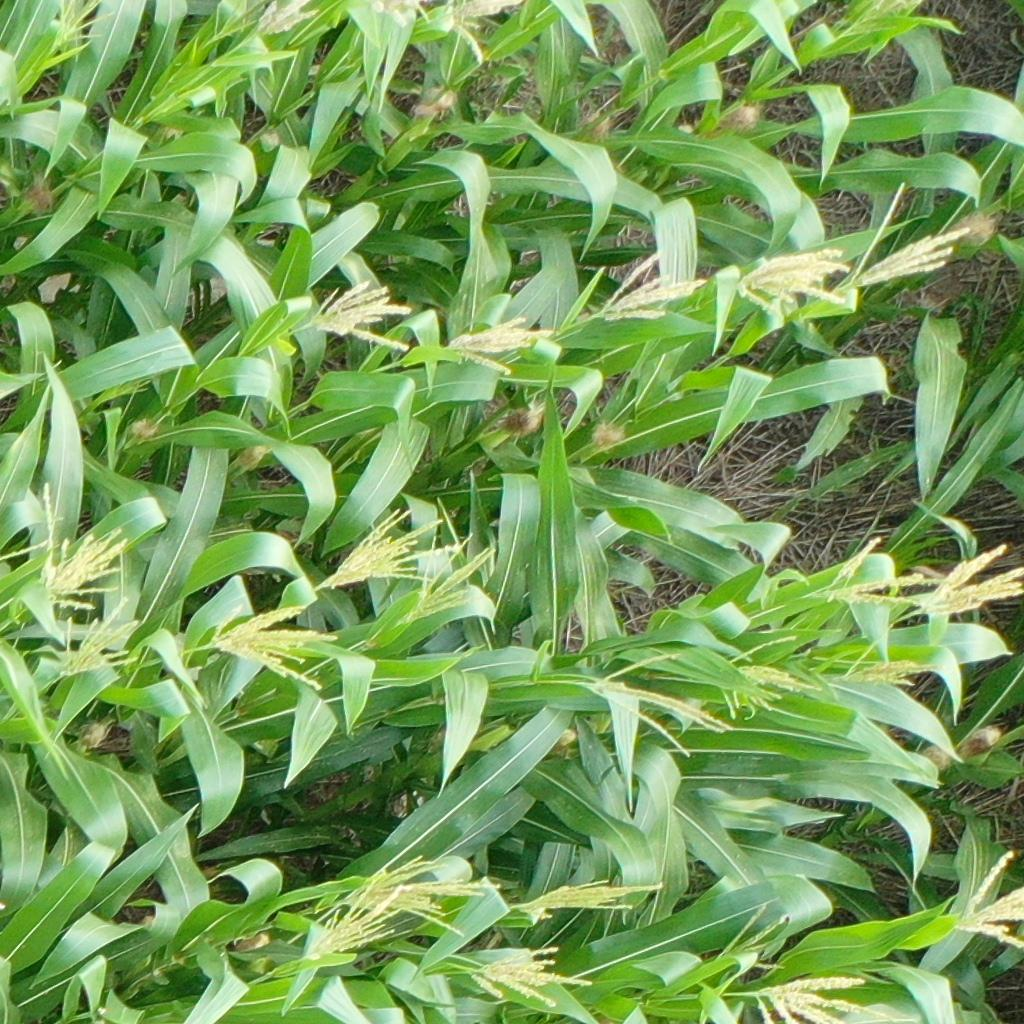Tassel: (585, 652, 735, 759), (848, 180, 971, 294), (342, 856, 504, 938), (211, 601, 341, 698), (311, 506, 459, 591), (32, 482, 124, 614), (810, 537, 942, 615), (589, 246, 708, 329), (397, 533, 496, 626), (735, 247, 853, 318), (466, 945, 598, 1008), (305, 279, 415, 353), (921, 542, 1024, 619), (722, 634, 815, 719), (311, 883, 409, 961), (838, 621, 937, 698), (440, 319, 556, 384), (952, 848, 1024, 952), (512, 877, 669, 921), (57, 598, 142, 677), (748, 974, 869, 1024), (716, 902, 796, 971), (442, 1, 525, 63), (52, 1, 119, 46), (843, 1, 924, 37), (209, 1, 268, 44), (256, 1, 320, 39), (365, 1, 433, 31), (115, 375, 154, 400)
